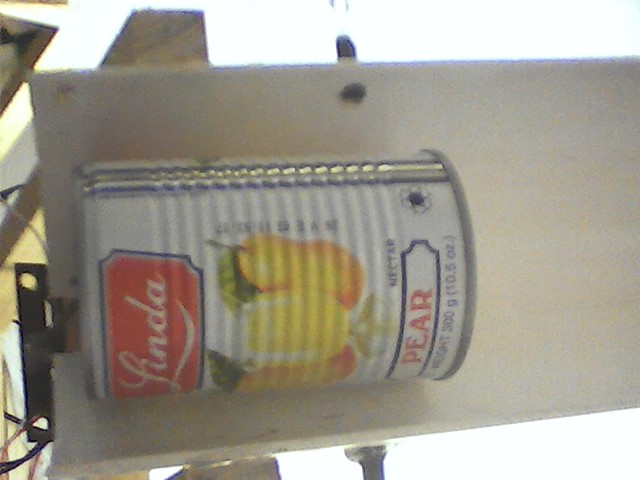lata: (56, 139, 483, 413)
